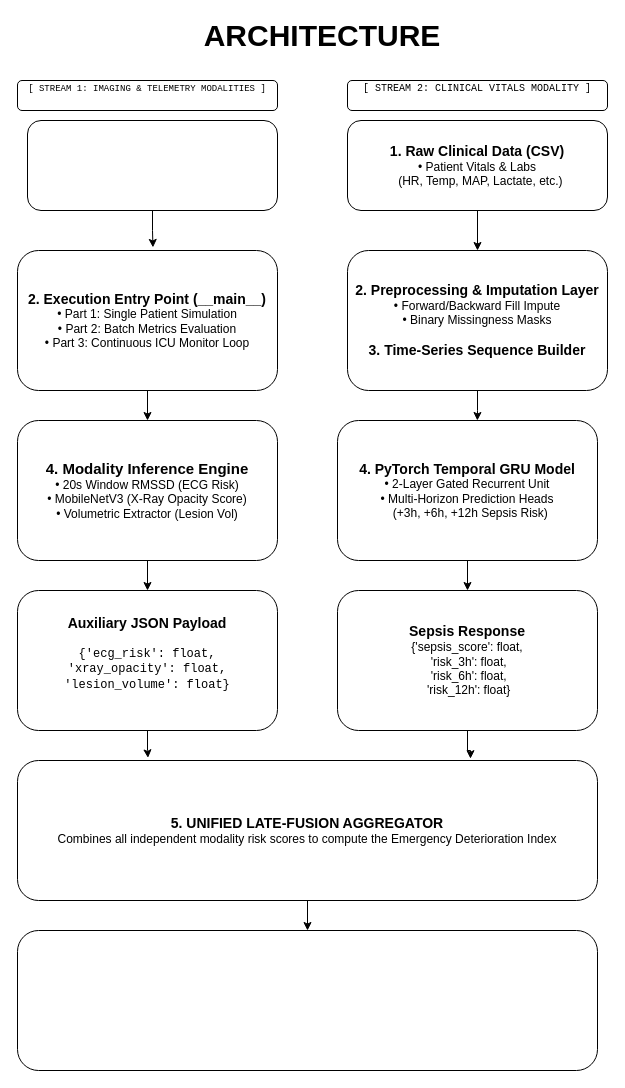
This 625x1088 diagram has some shape labels left out. The centre of each missing label's shape, as x and y in pixels:
1. Local Data Directories • ECG Signals / MLII (.mat files) • NORMAL X-Rays: the point at 152,165
6. READY FOR BACKEND (FastAPI Endpoints & Live ICU Monitor): the point at 307,1000
